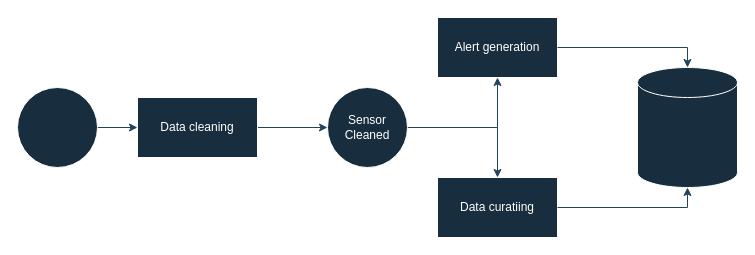
This 755x255 diagram has some shape labels left out. The shapes that lost their labels are listed below. From the top down, each one's centre as x and y in pixels, then its label:
the point at 57,127: Sensor raw
the point at 687,127: PostgreSql
